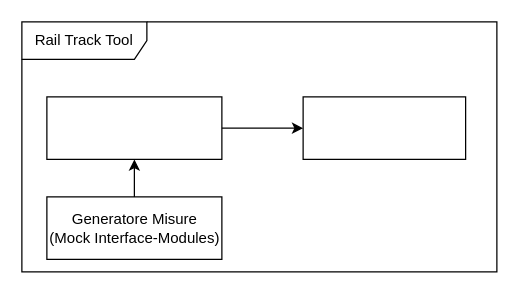
The diagram is 519 pixels wide and 294 high, and some of its shapes have lost their labels. Each missing label, with the centre of its shape:
Interfaccia Utente: point (384, 127)
SensorFusionLib: point (134, 127)
